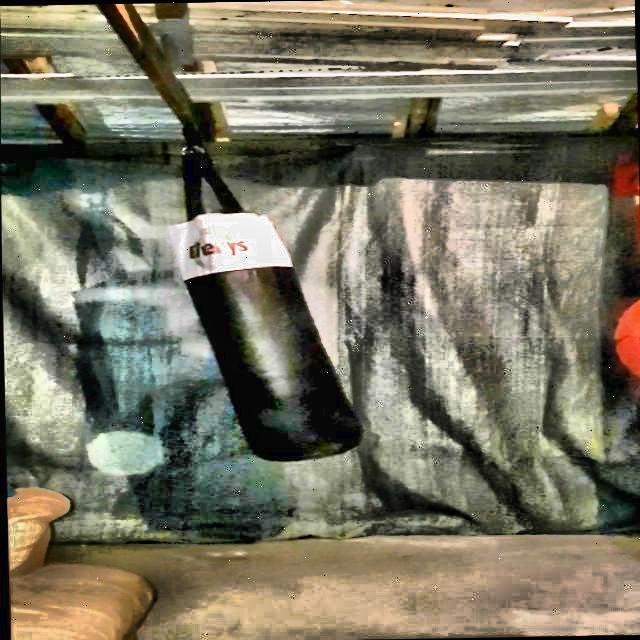boxing-bag: (166, 120, 368, 464)
